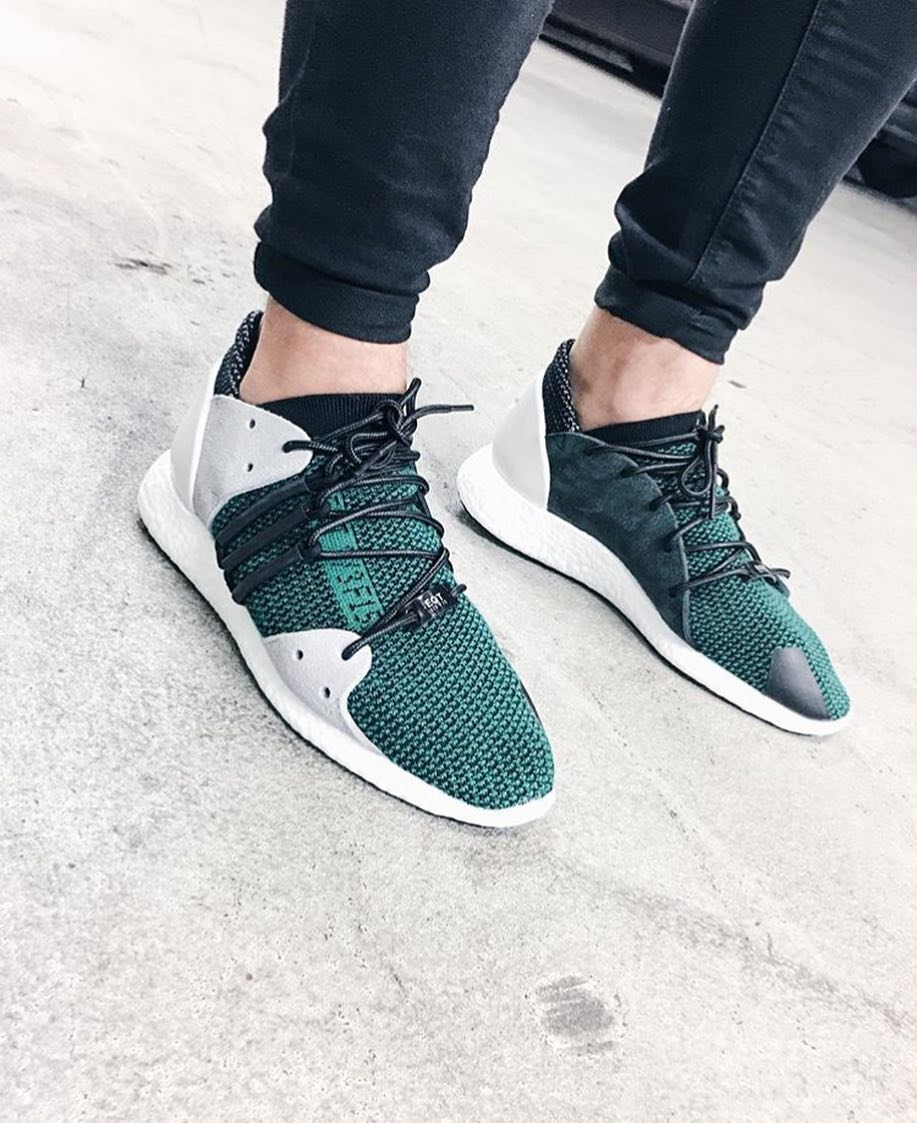sneaker: (109, 261, 587, 869), (431, 272, 869, 763)
